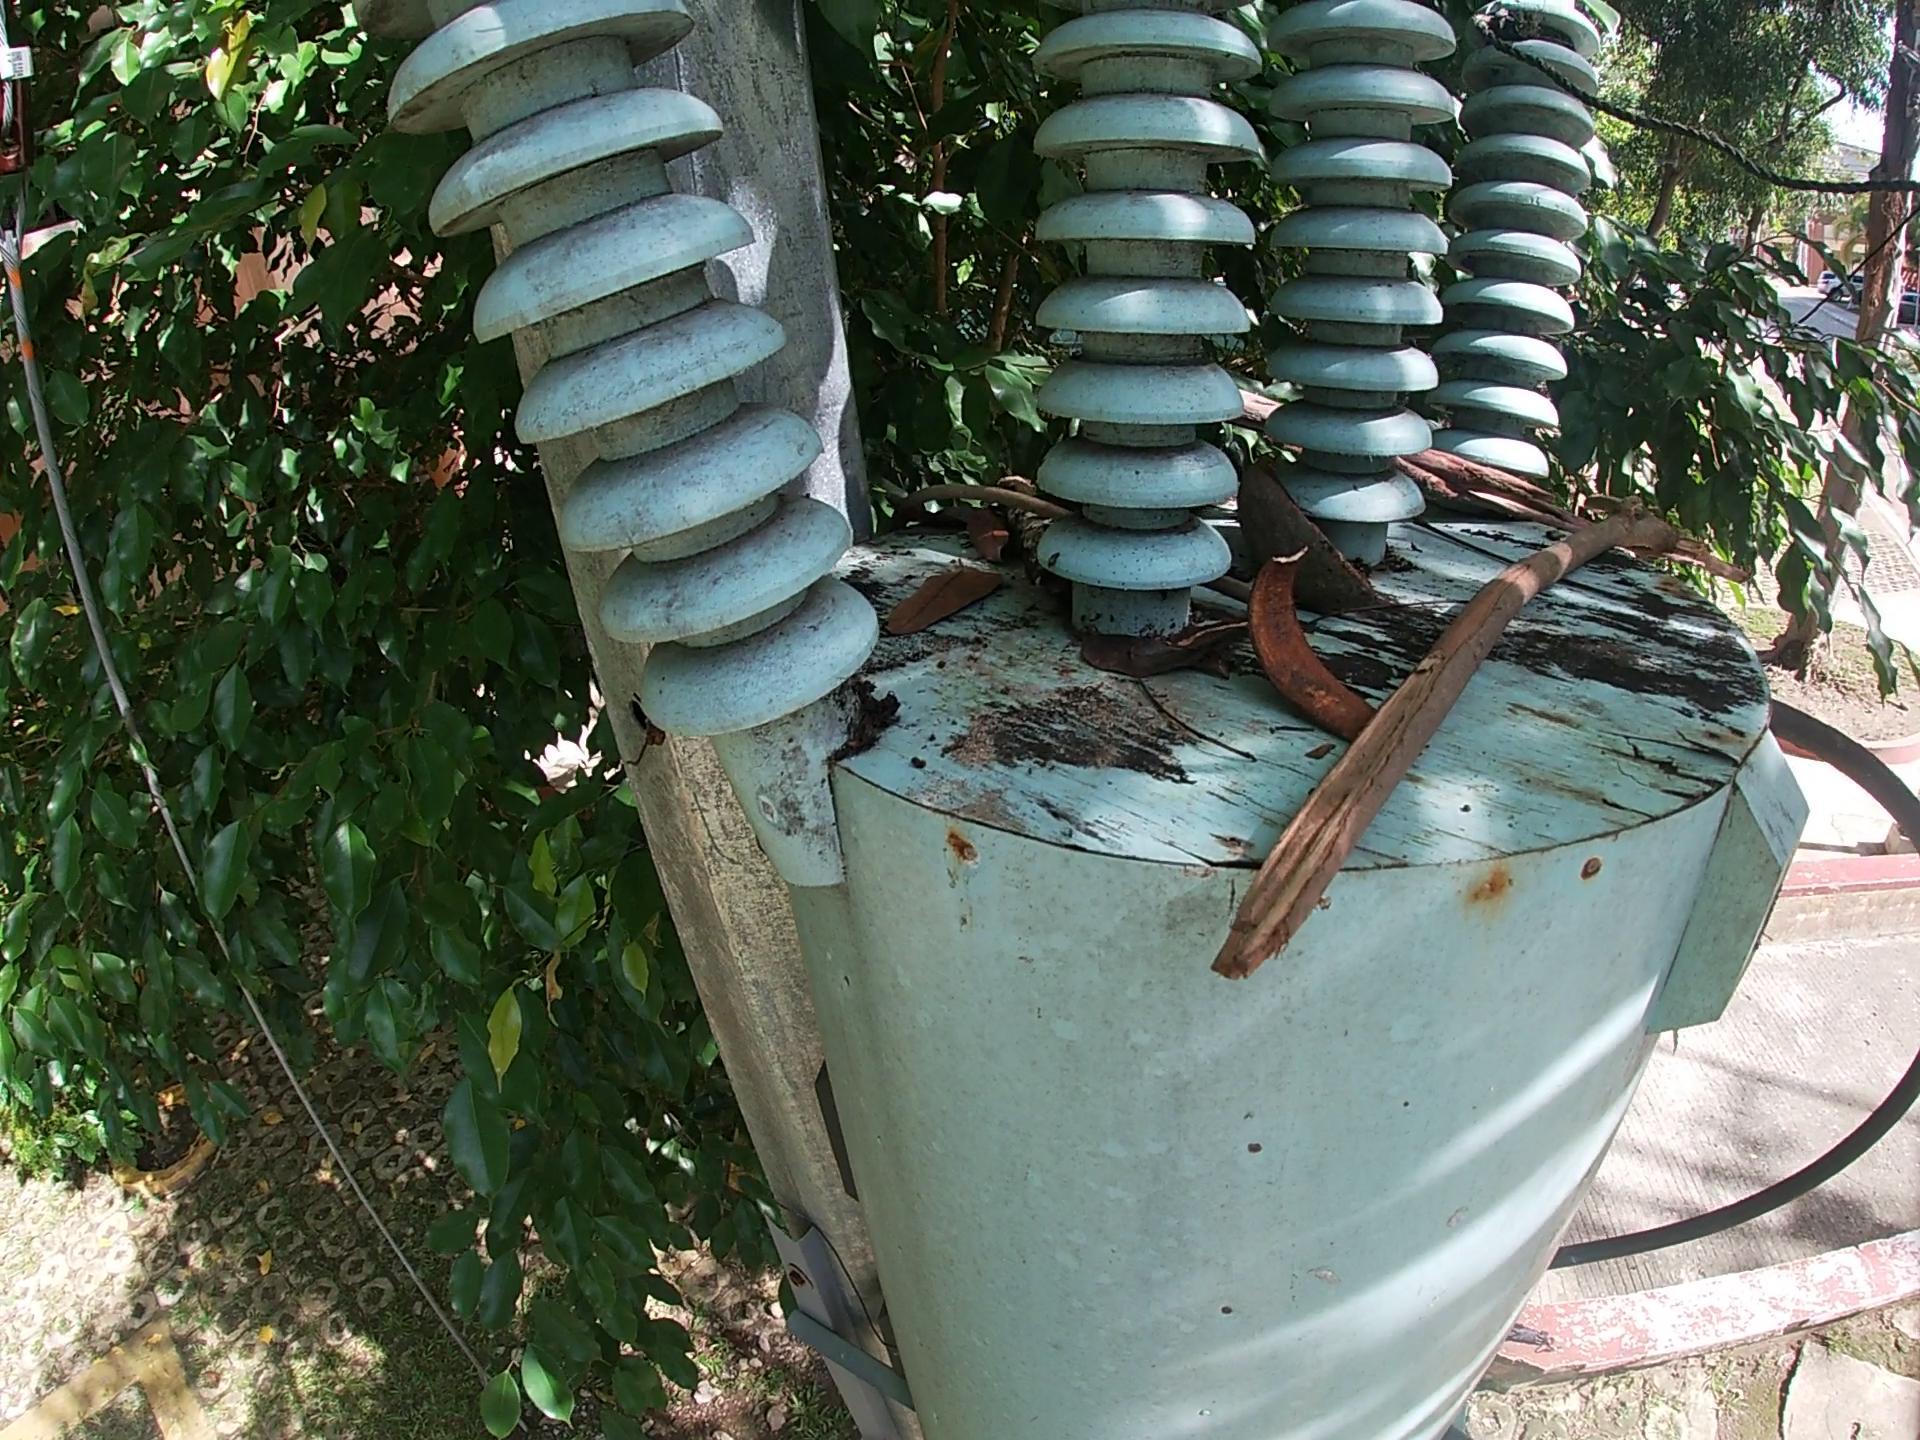leaf: (880, 554, 1027, 635), (1067, 625, 1150, 675)
mahogany fruit: (1234, 476, 1407, 625), (1253, 548, 1364, 746)
tree branch: (1188, 501, 1785, 992), (1421, 519, 1663, 607), (1392, 451, 1587, 520), (1125, 690, 1265, 762), (989, 470, 1051, 579), (887, 486, 1063, 517), (1234, 390, 1305, 463), (1172, 628, 1252, 647), (1212, 575, 1246, 605)
